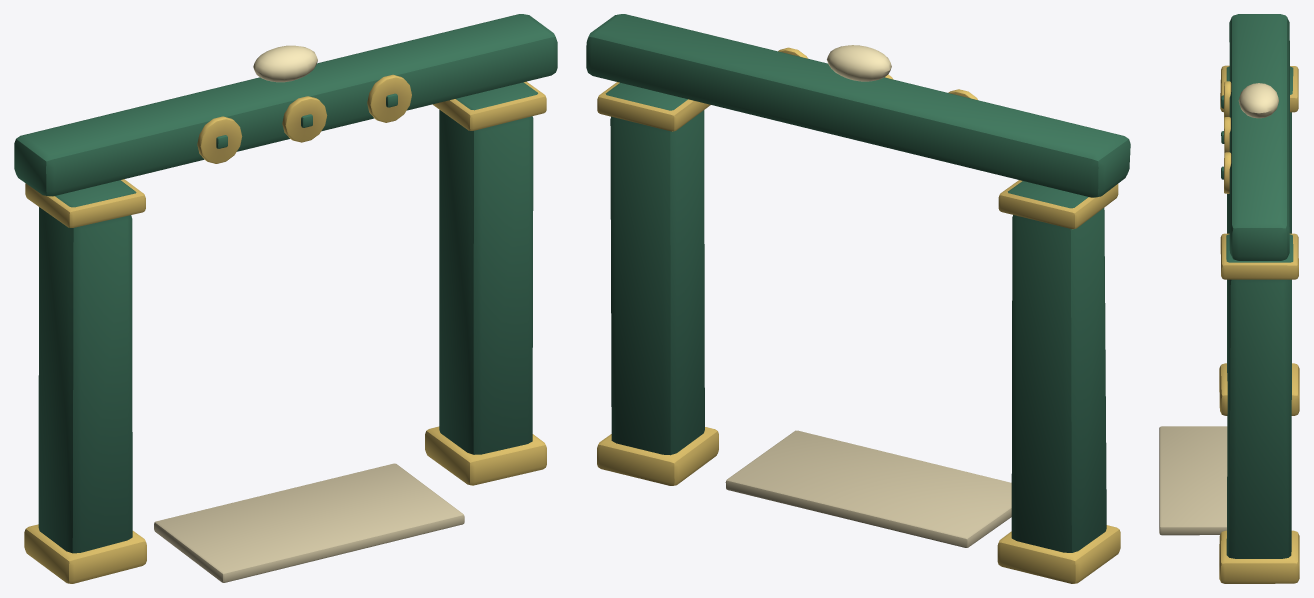
The picture shows the model from 3 angles, left to right: view 1: azimuth 30°, elevation 25°; view 2: azimuth 150°, elevation 25°; view 3: azimuth 270°, elevation 25°; orthographic projection. The views are drawn at different scales.
Parts seen in each view (by area): view 1: gate_38a6bf3d; view 2: gate_38a6bf3d; view 3: gate_38a6bf3d.
Boxes of the visible parts, x1,y1,x2,y2 form: gate_38a6bf3d: [14, 14, 557, 583]; gate_38a6bf3d: [586, 14, 1130, 583]; gate_38a6bf3d: [1159, 14, 1299, 583].
Bounding box in the file's own units: 5.12 × 4.38 × 1.4.
